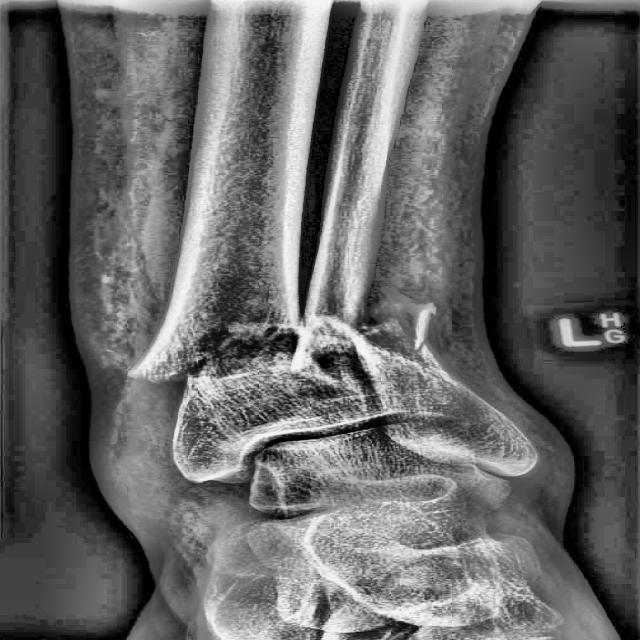fracture: (124, 310, 348, 393), (292, 296, 481, 392)
